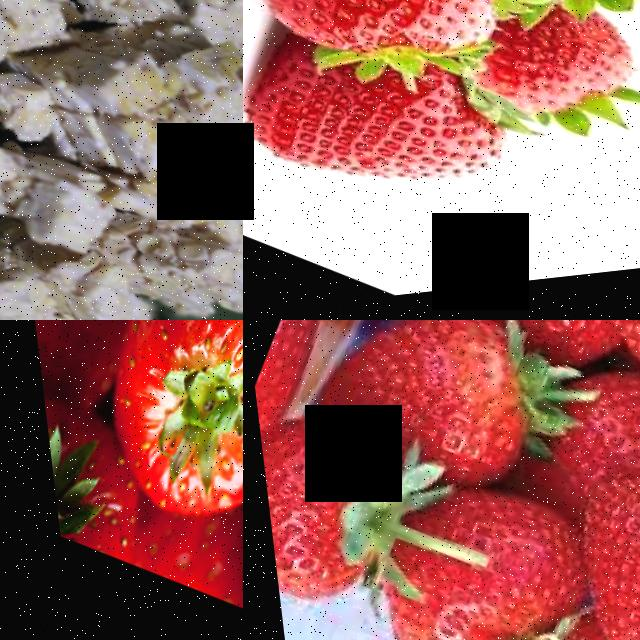strawberry: (243, 16, 512, 262), (34, 320, 243, 559), (352, 465, 594, 640), (250, 386, 424, 628), (243, 0, 530, 127), (361, 320, 566, 497), (455, 8, 636, 162), (506, 440, 640, 640), (35, 388, 148, 565)
